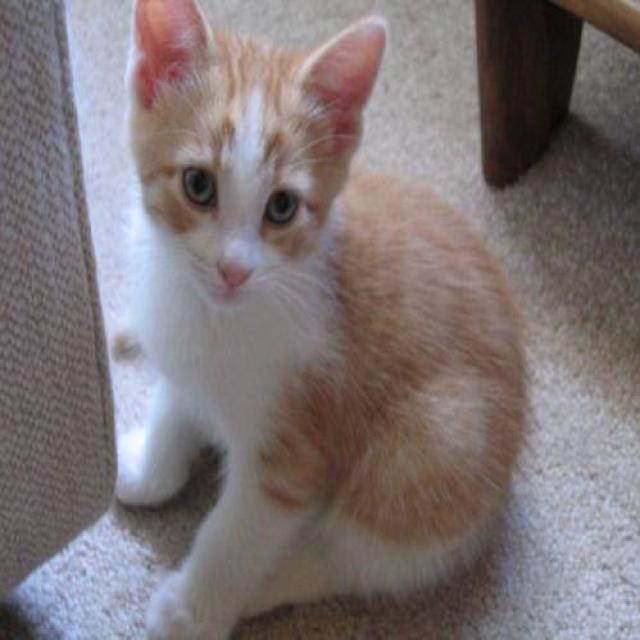cat: (109, 0, 529, 638)
